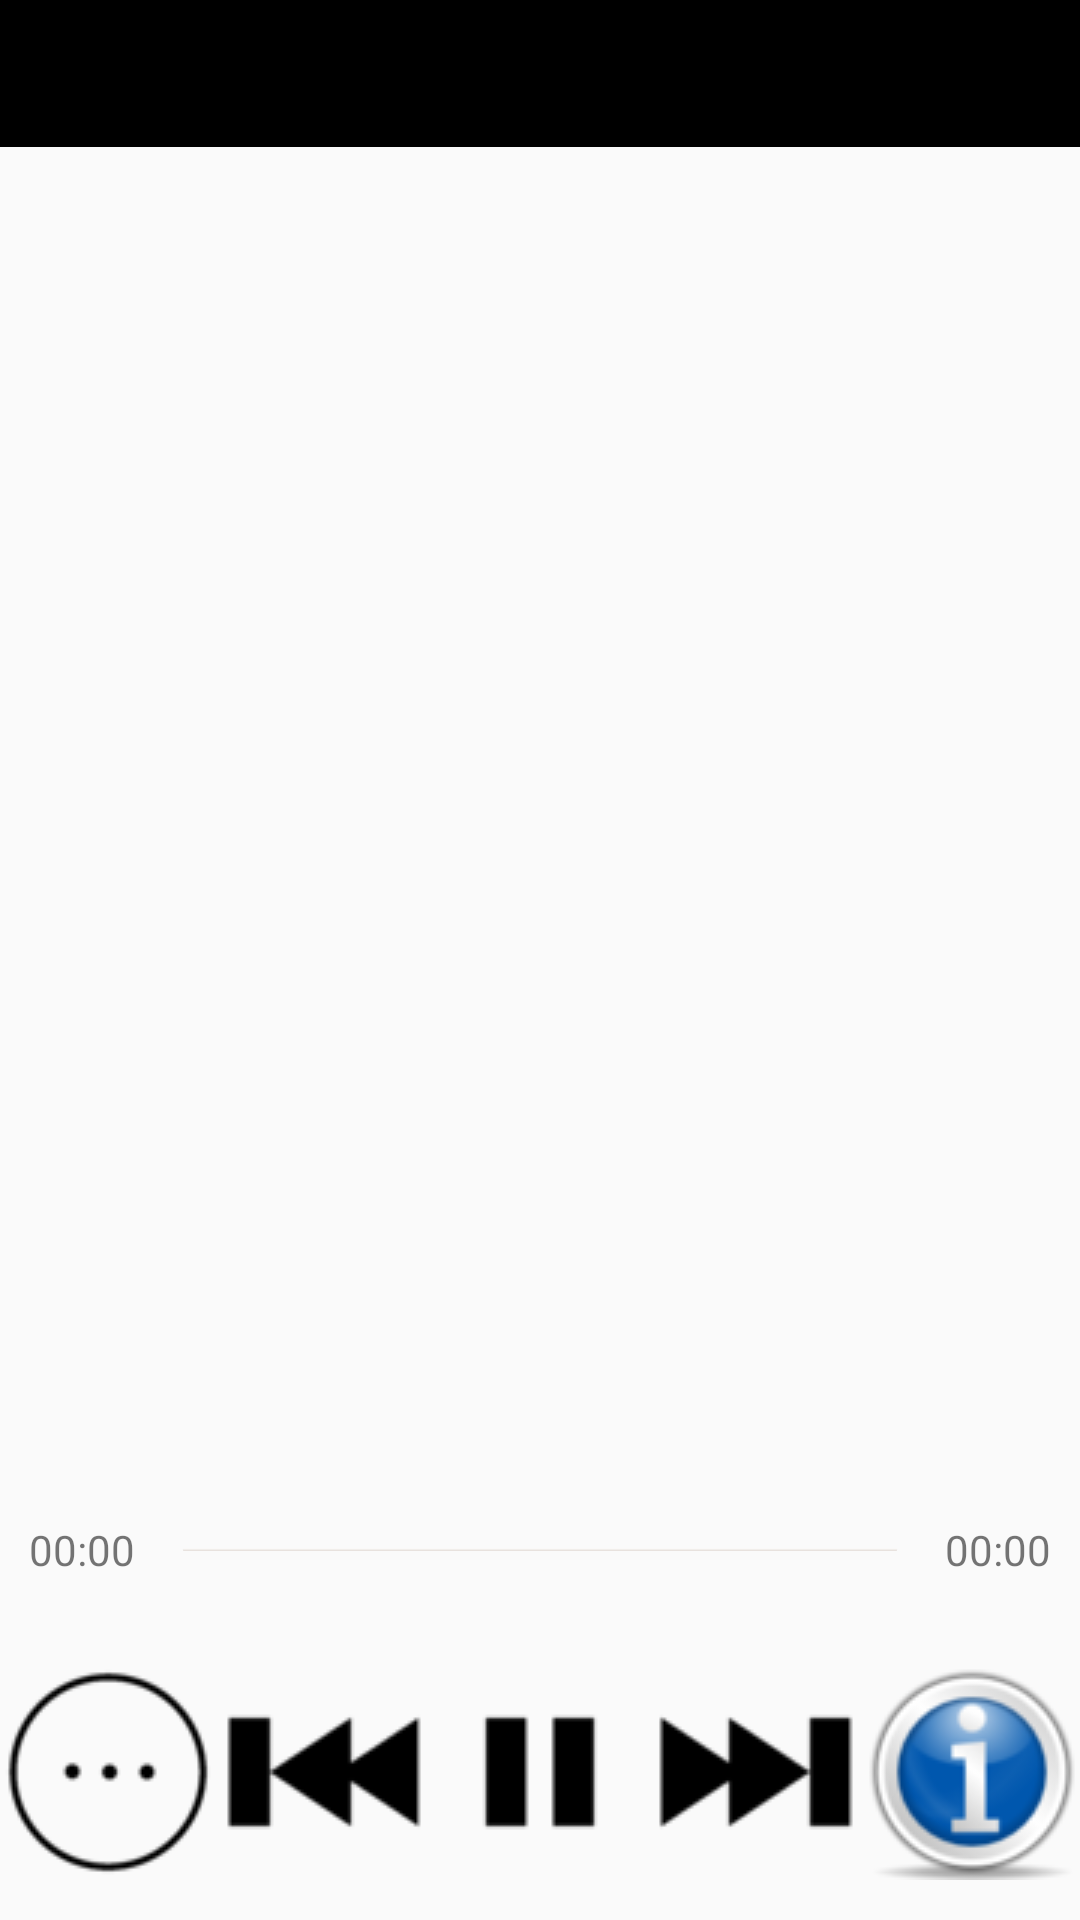

Icons on this 1080 x 1920 Android screen, each with its box as (x1, y1, x2, y2):
backward: (227, 1716, 421, 1828)
forward: (659, 1716, 853, 1828)
